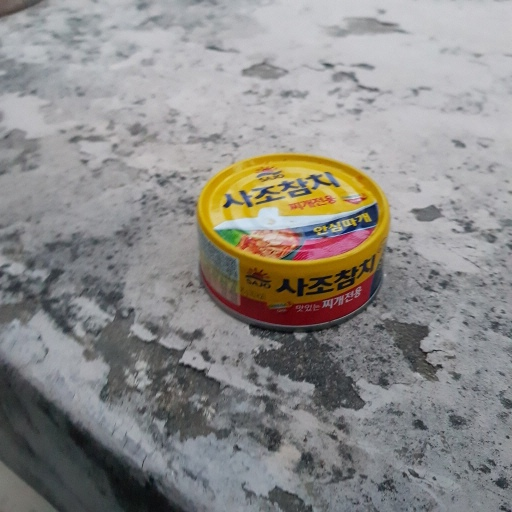Metal_1: (194, 153, 394, 330)
